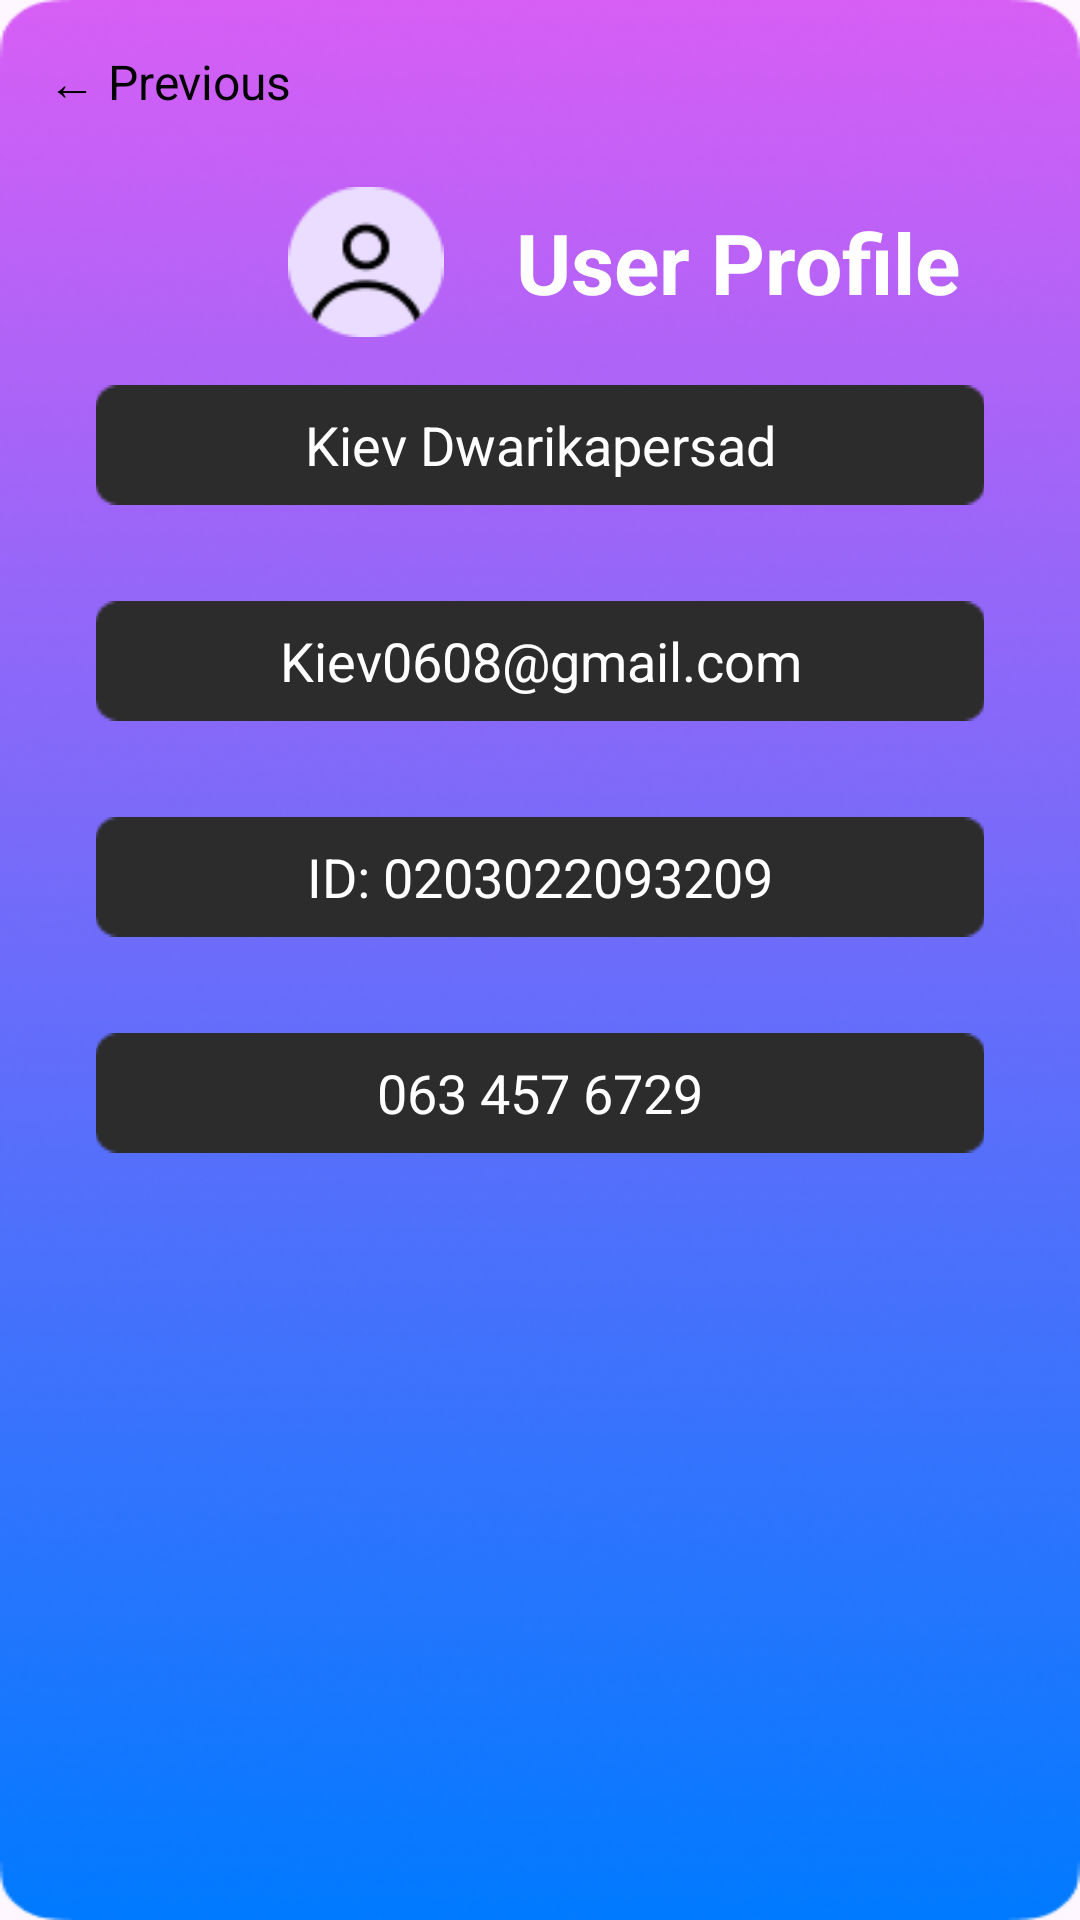

Icon click points for this 1080×1920 phone screenshot, format [x,y]:
user avater: [366,262]
